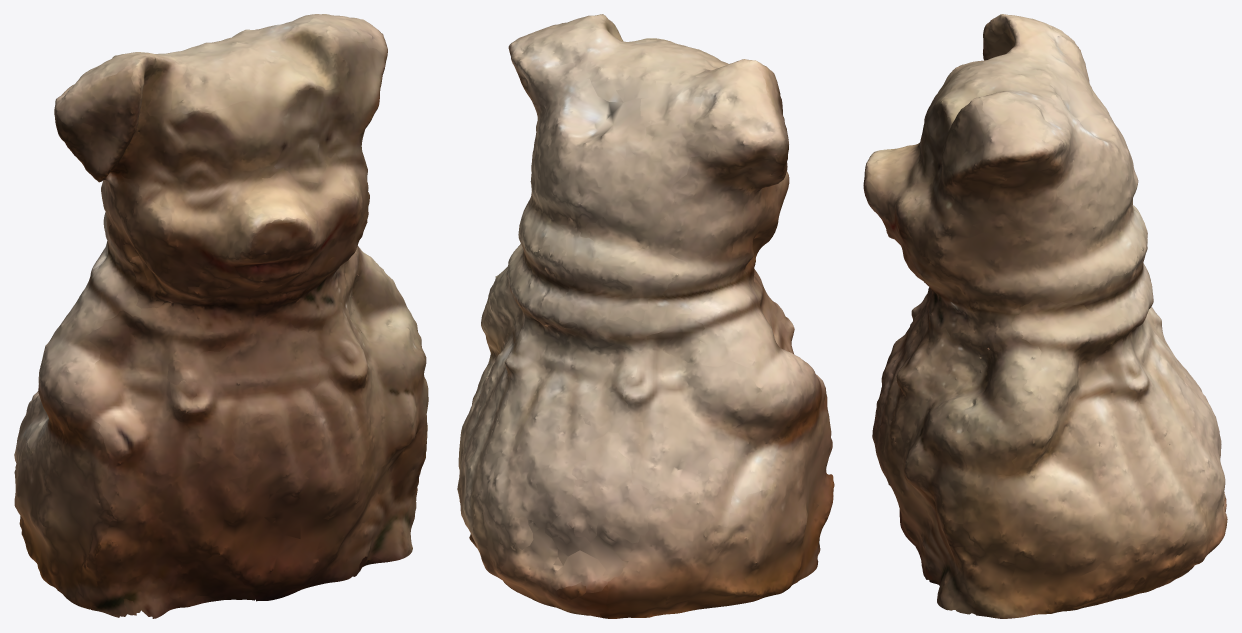
Rendered from CookieJar.glb.
3 renders of one model, left to right at view 1: azimuth 30°, elevation 25°; view 2: azimuth 150°, elevation 25°; view 3: azimuth 270°, elevation 25°, orthographic. The views are drawn at different scales.
Visible parts, largest first — view 1: mesh.008; view 2: mesh.008; view 3: mesh.008.
Boxes of the visible parts, <box> form: mesh.008: <box>14,14,428,618</box>; mesh.008: <box>457,14,834,618</box>; mesh.008: <box>863,14,1227,618</box>.
Size of the model in its own units: 0.1919 by 0.2727 by 0.1846.
Materials: 1 (1 with a texture image).
